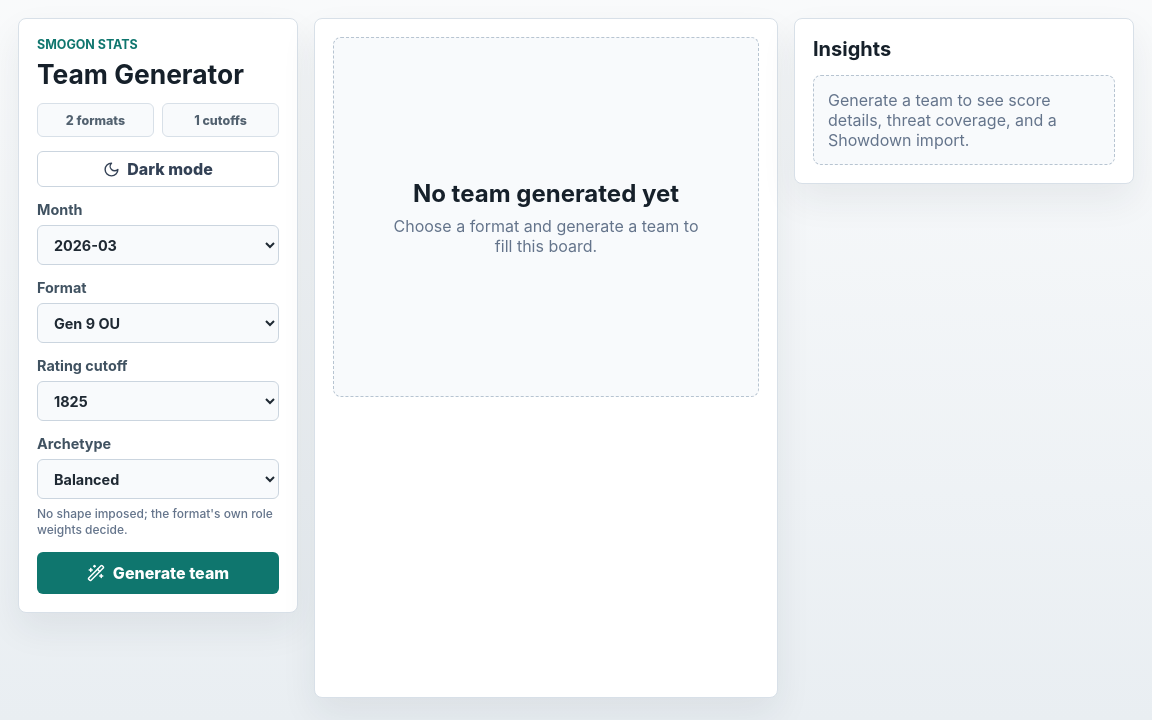
it: App › toggles dark mode from the control rail
Click the button "Dark mode".
click(158, 169)  # box [37,151,279,187]
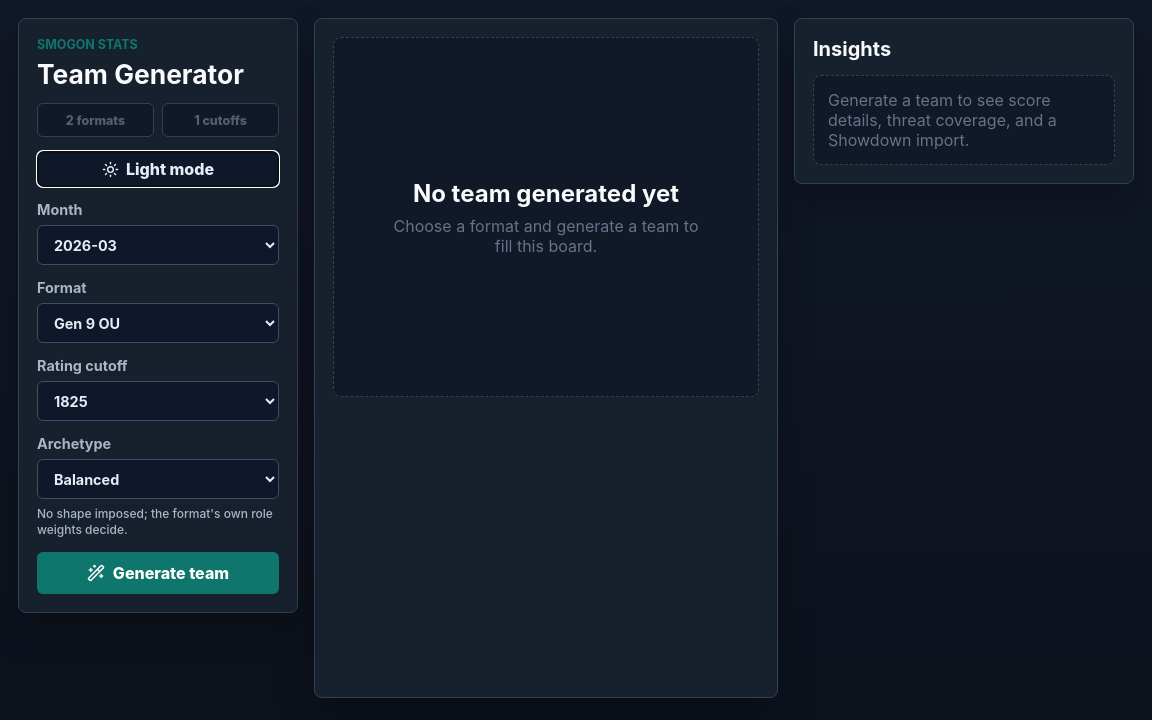
expect the button "Light mode" is shown: met, box [37,151,279,187]
